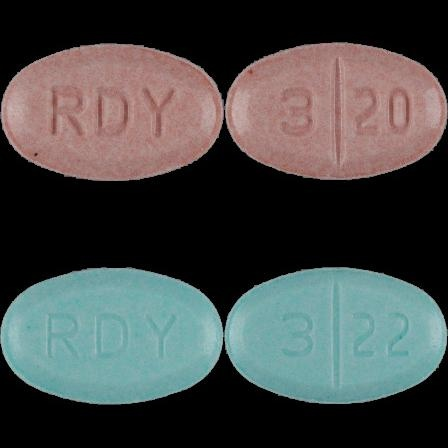43063-121: (0, 0, 224, 224)
